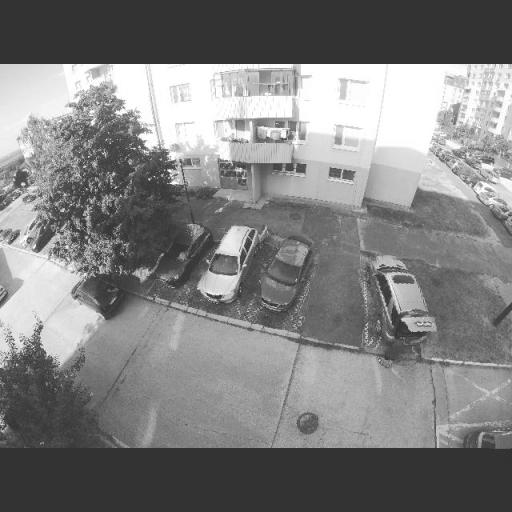busy: (365, 255, 435, 350), (249, 227, 319, 314), (200, 224, 260, 304), (157, 224, 208, 290), (446, 412, 512, 448)
free: (312, 272, 366, 330)
